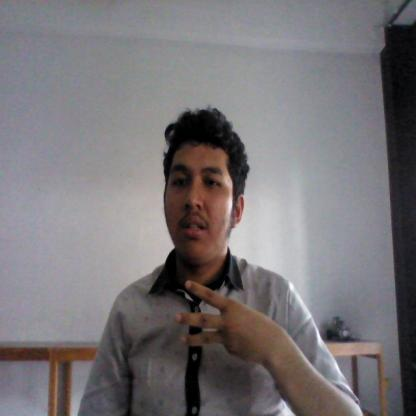E: (172, 276, 278, 366)
